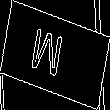M_S: (36, 25, 74, 85)
